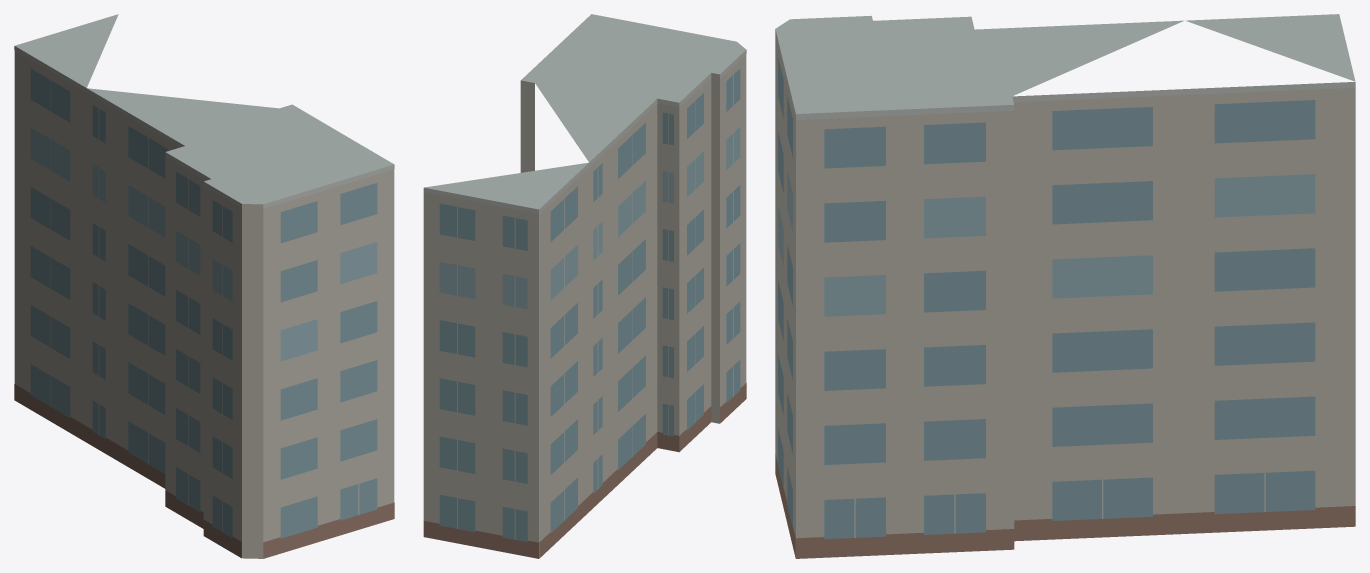
Rendered from survey-upis-33011354.glb.
3 views of the same model, side by side, from view 1: azimuth 30°, elevation 25°; view 2: azimuth 150°, elevation 25°; view 3: azimuth 270°, elevation 25° (orthographic). The views are drawn at different scales.
Visible parts, largest first — view 1: survey-upis-33011354.tmp; view 2: survey-upis-33011354.tmp; view 3: survey-upis-33011354.tmp.
Part boxes in pixels (bbox=[...]): survey-upis-33011354.tmp: bbox=[14, 14, 394, 558]; survey-upis-33011354.tmp: bbox=[423, 14, 746, 558]; survey-upis-33011354.tmp: bbox=[775, 14, 1355, 558].
Bounding box in the file's own units: 8.88 × 18.4 × 21.76.
